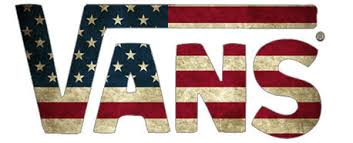vans: (15, 6, 322, 137)
